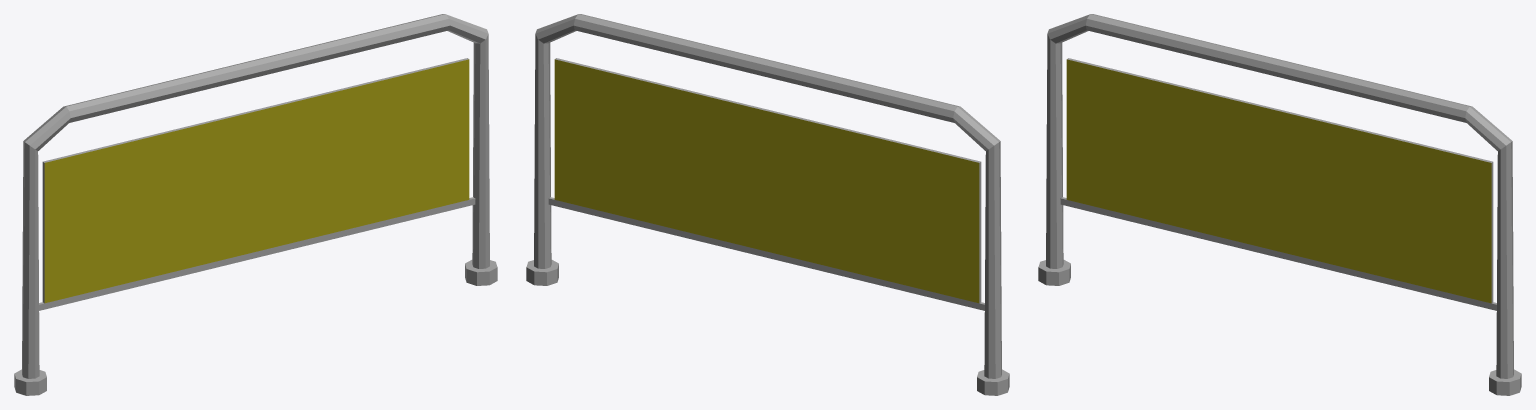
File: md_roadblock.fbx
The picture shows the model from 3 angles, left to right: view 1: azimuth 30°, elevation 25°; view 2: azimuth 150°, elevation 25°; view 3: azimuth 330°, elevation 25°; orthographic projection.
Visible parts, largest first — view 1: pCube2; view 2: pCube2; view 3: pCube2.
Part boxes in pixels (x1,y1,x2,y2): pCube2: [14, 14, 497, 395]; pCube2: [526, 14, 1009, 395]; pCube2: [1038, 14, 1521, 395].
Size of the model in its own units: 1.56 by 0.8517 by 0.0952.
